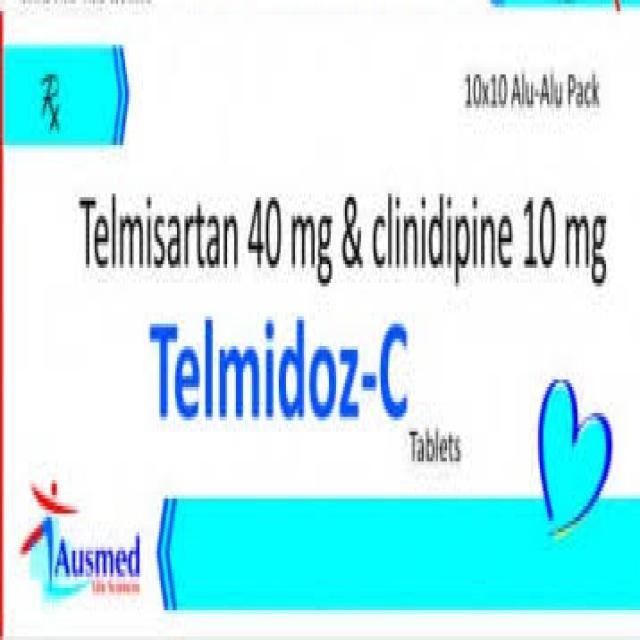drug-name: (146, 315, 412, 425)
